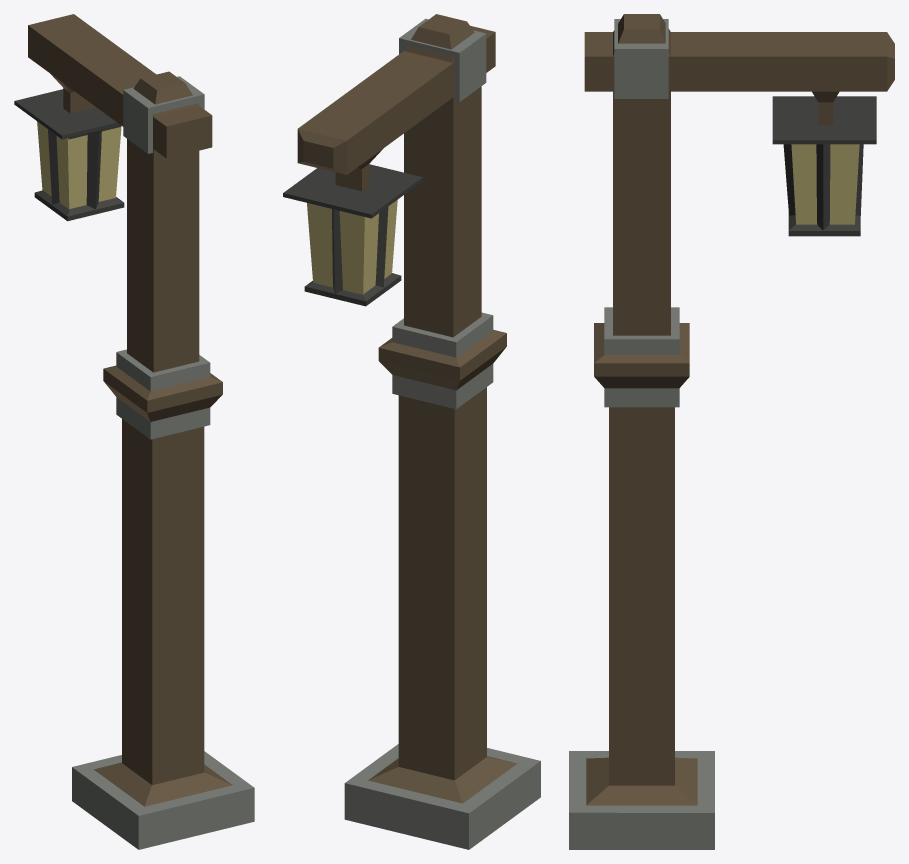
The model's file is HalloweenLightPole.fbx.
3 views of the same model, side by side, from view 1: azimuth 30°, elevation 25°; view 2: azimuth 150°, elevation 25°; view 3: azimuth 270°, elevation 25° (orthographic). The views are drawn at different scales.
Visible parts, largest first — view 1: HaloweenLightPole; view 2: HaloweenLightPole; view 3: HaloweenLightPole.
Part boxes in pixels (x1,y1,x2,y2): HaloweenLightPole: [14, 14, 254, 849]; HaloweenLightPole: [283, 14, 540, 849]; HaloweenLightPole: [569, 14, 894, 849].
Bounding box in the file's own units: 138 × 831 × 308.
